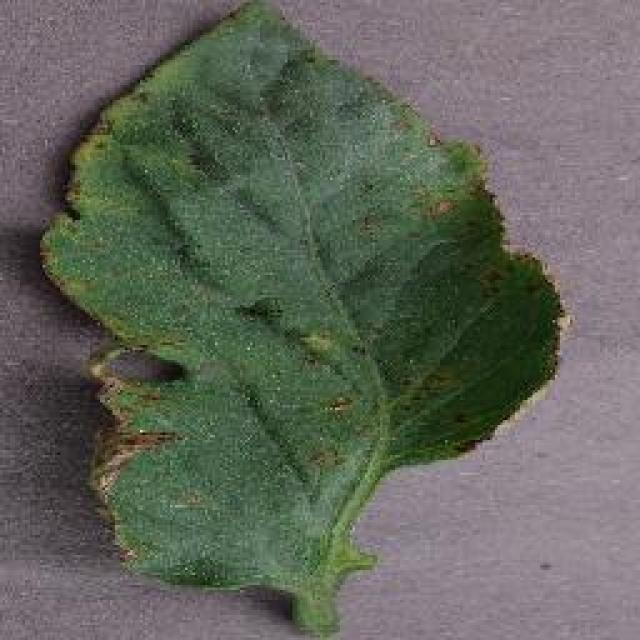Tom_Bacterial_spot: (288, 306, 474, 469), (84, 342, 205, 568), (355, 96, 496, 258)
